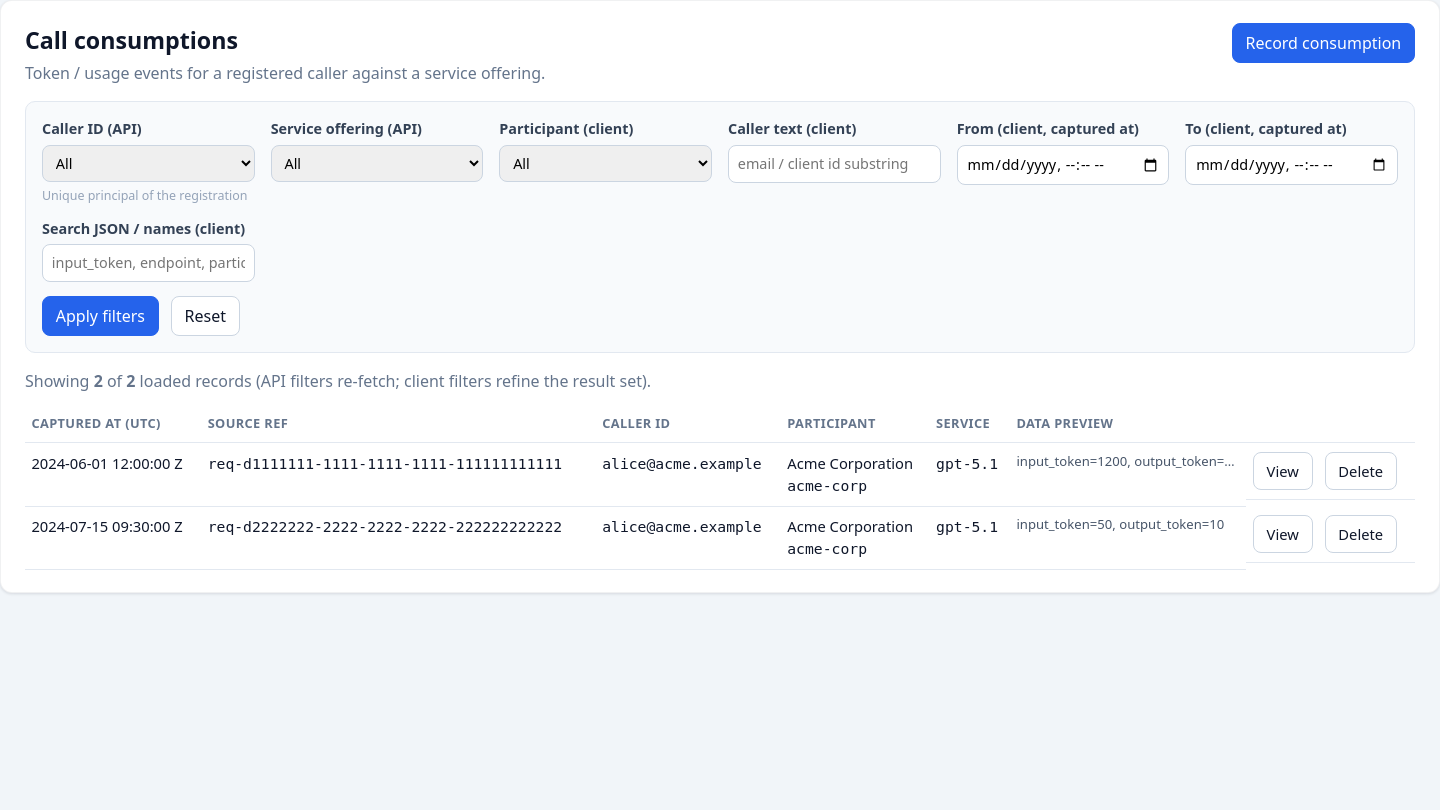
Consumption pages › filters out records by non-matching caller text
expect the text "input_token=1200, output_token=340" is shown: met, box [1010,442,1246,506]
Type "nobody@example.com" into the field with placeholder "email / client id substring" at (834, 164), box [728,145,941,183]
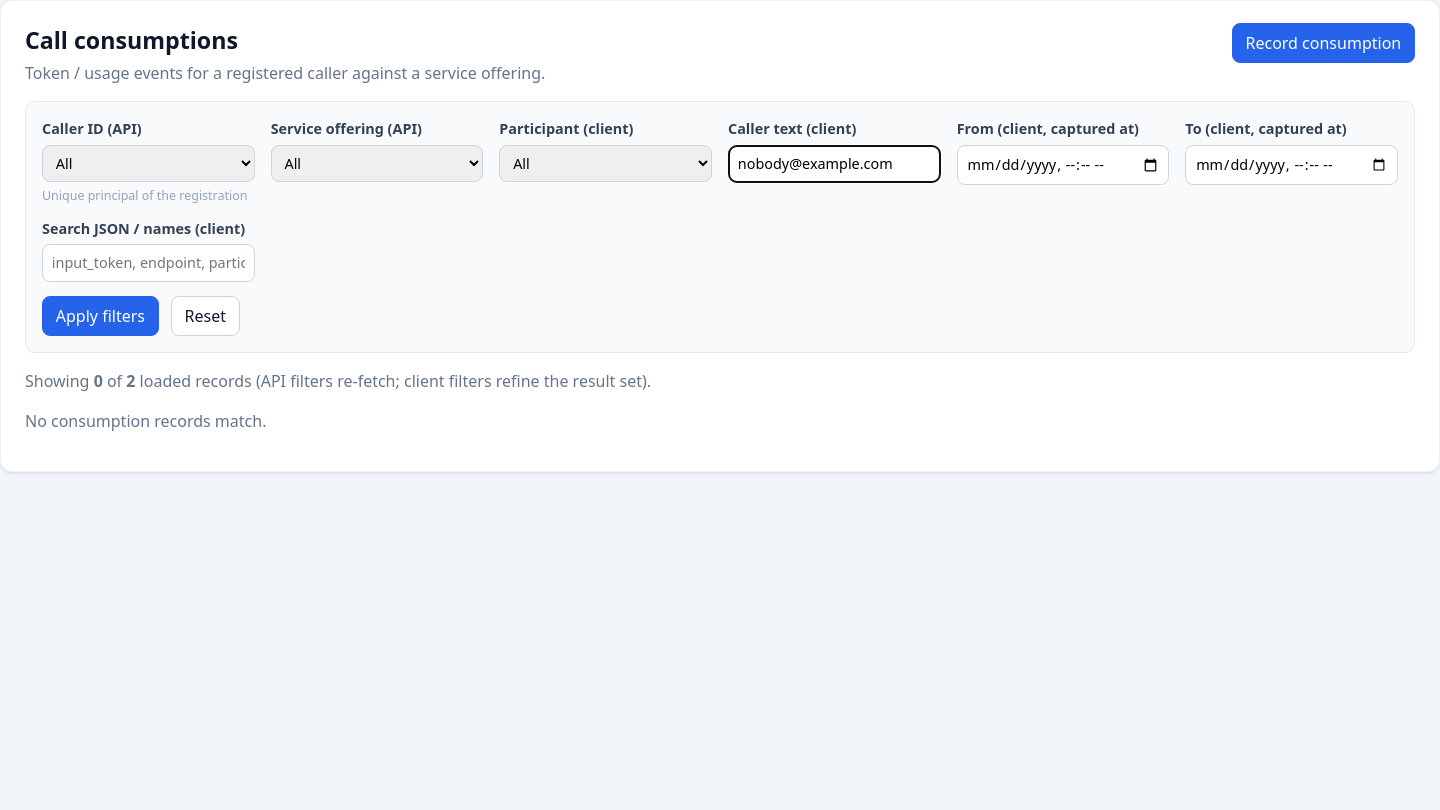
expect the text "No consumption records match." is shown: met, box [25,410,266,432]
